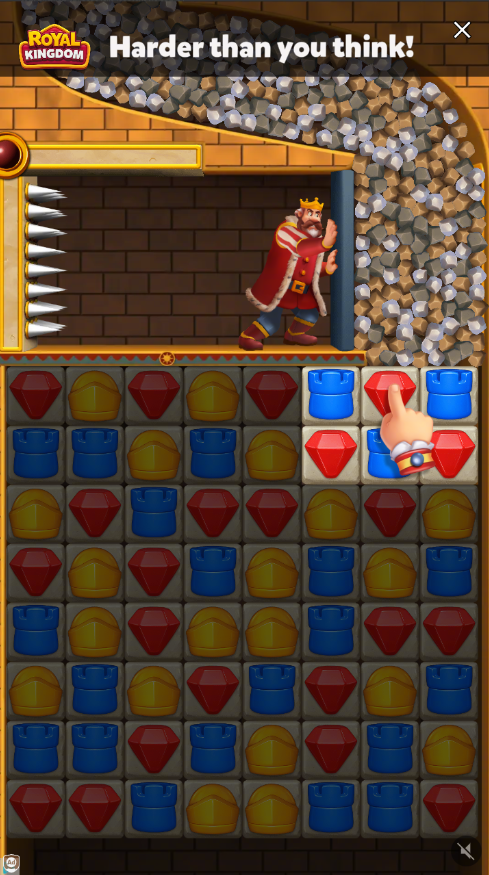close_button: (450, 18, 472, 41)
